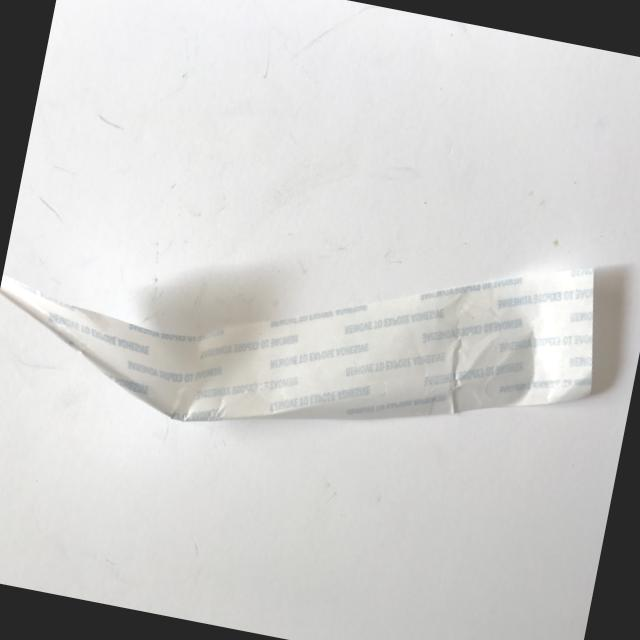Paper: (0, 138, 615, 499)
